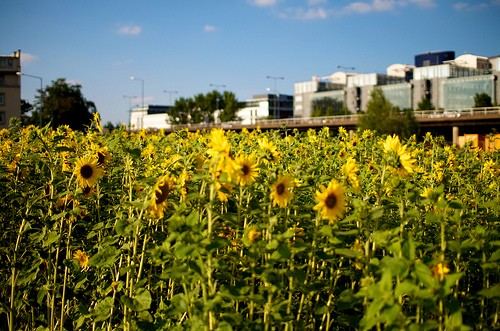flower: (312, 179, 351, 224), (147, 169, 175, 222), (228, 153, 262, 189), (72, 153, 106, 189), (265, 172, 296, 209)
